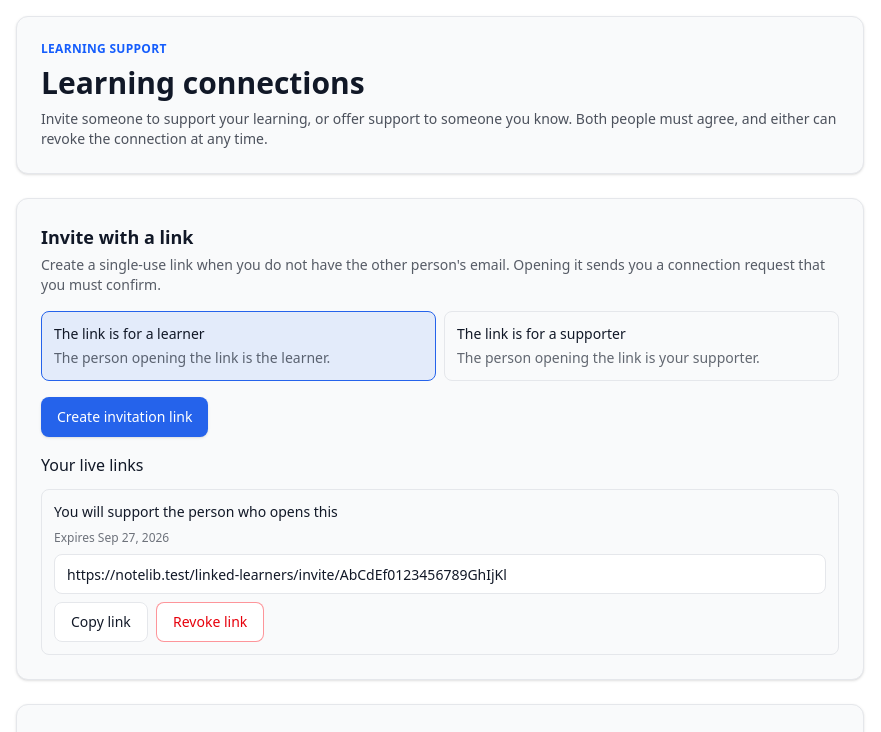
Scenario: treats a revoke 404 as an already-completed outcome and refetches
The width and height of the screenshot is (881, 732).
expect the field showing "https://notelib.test/linked-learners/invite/AbCdEf0123456789GhIjKl" is shown: met, box [54,554,826,594]
Step 1. Click the button "Revoke link" → (210, 622), box [156,602,264,642]
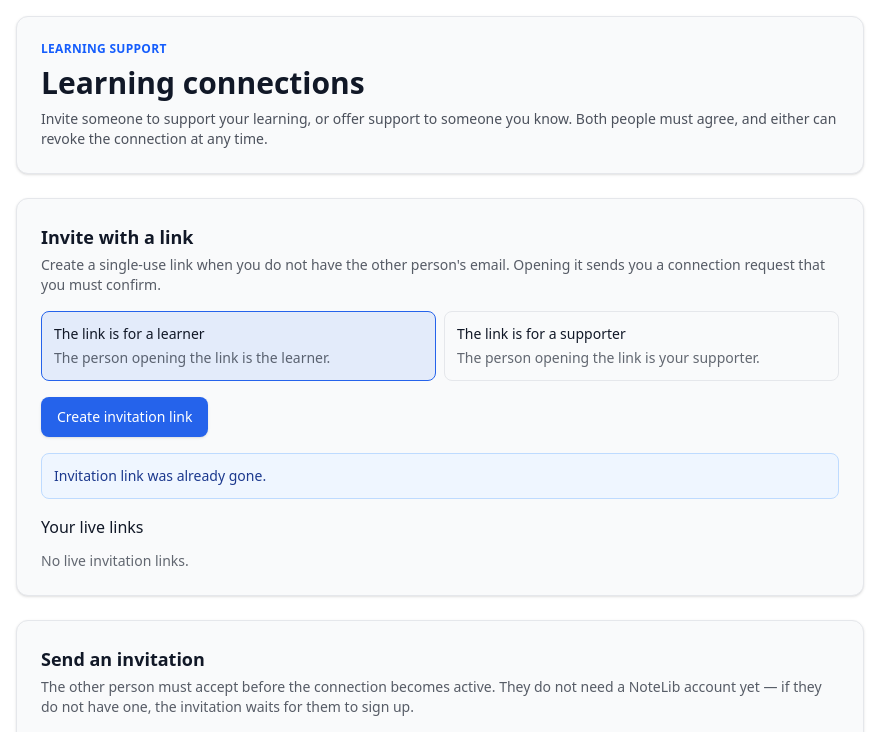
expect the field showing "https://notelib.test/linked-learners/invite/AbCdEf0123456789GhIjKl" is not shown: met
expect the text "Invitation link was already gone." is shown: met, box [41,453,839,499]
